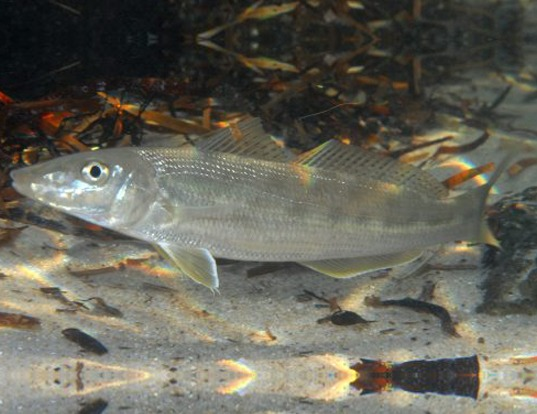kiss: (9, 125, 502, 298)
